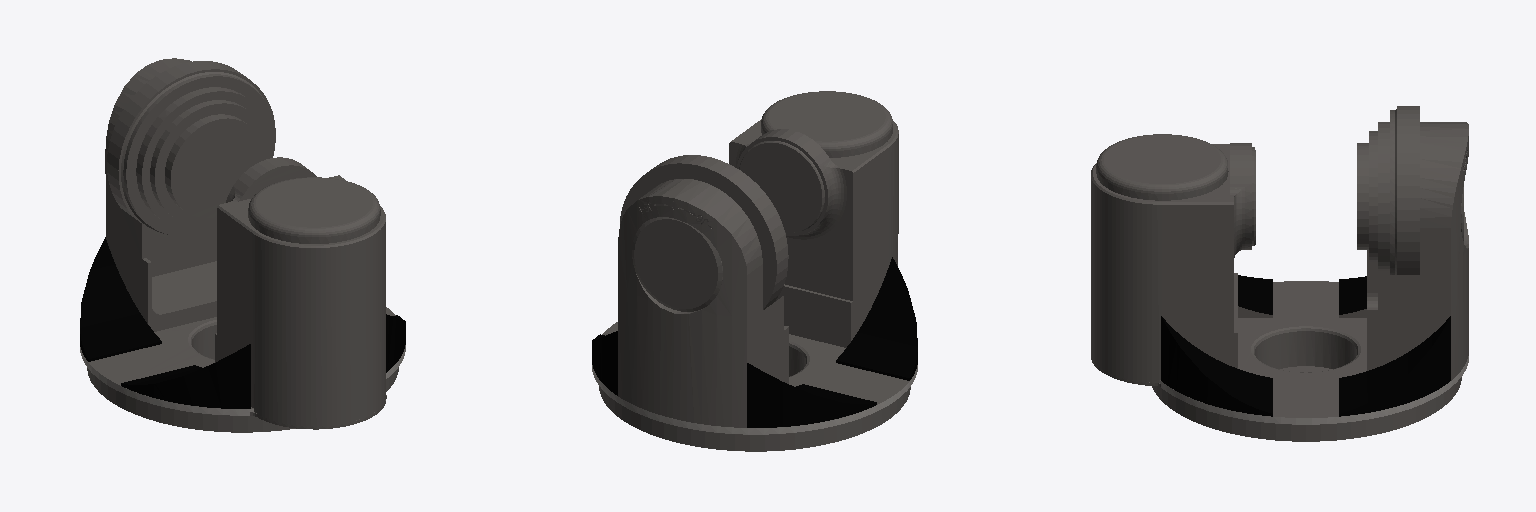
3 renders of one model, left to right at view 1: azimuth 30°, elevation 25°; view 2: azimuth 150°, elevation 25°; view 3: azimuth 270°, elevation 25°, orthographic.
Visible parts, largest first — view 1: mesh_9_Imported19.013_mesh_9_Imported19.016; view 2: mesh_9_Imported19.013_mesh_9_Imported19.016; view 3: mesh_9_Imported19.013_mesh_9_Imported19.016.
Part boxes in pixels (bbox=[...]): mesh_9_Imported19.013_mesh_9_Imported19.016: bbox=[80, 58, 405, 432]; mesh_9_Imported19.013_mesh_9_Imported19.016: bbox=[592, 91, 917, 451]; mesh_9_Imported19.013_mesh_9_Imported19.016: bbox=[1091, 106, 1468, 441].
Size of the model in its own units: 0.0888 by 0.0853 by 0.1031.